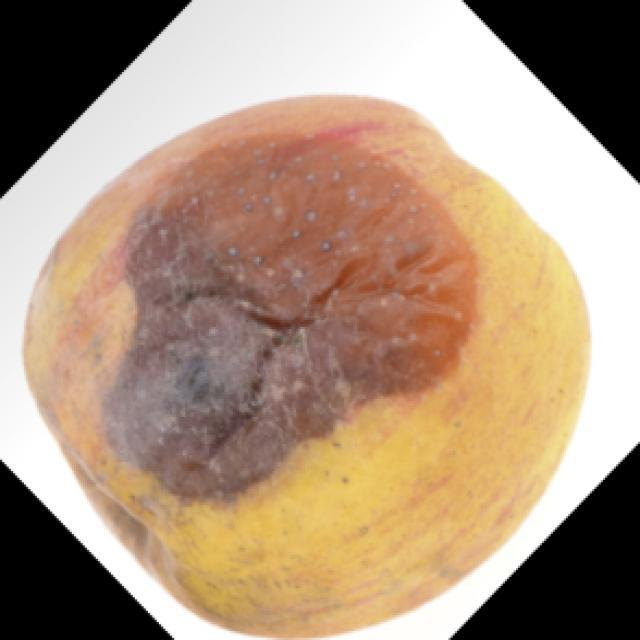Rotten: (50, 111, 595, 640)
